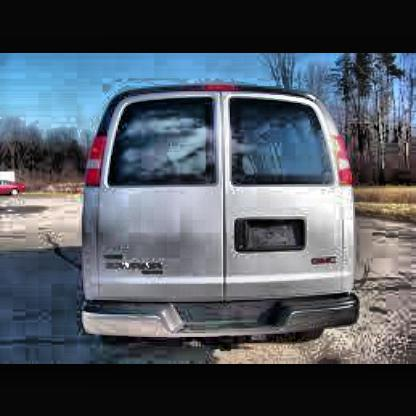GMC Savana Van 2012: (81, 79, 363, 348)
